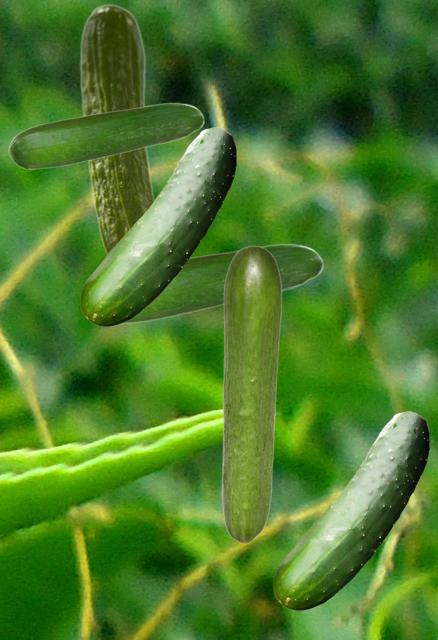cucumber: (273, 411, 428, 609), (80, 127, 235, 325), (79, 3, 155, 256), (221, 245, 281, 543), (121, 243, 322, 324), (8, 102, 203, 169)
